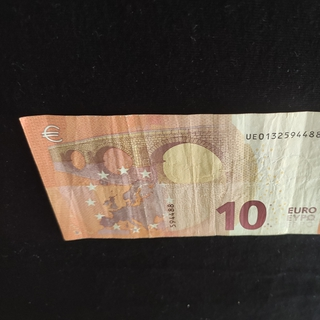10EUROBack: (18, 111, 320, 241)
